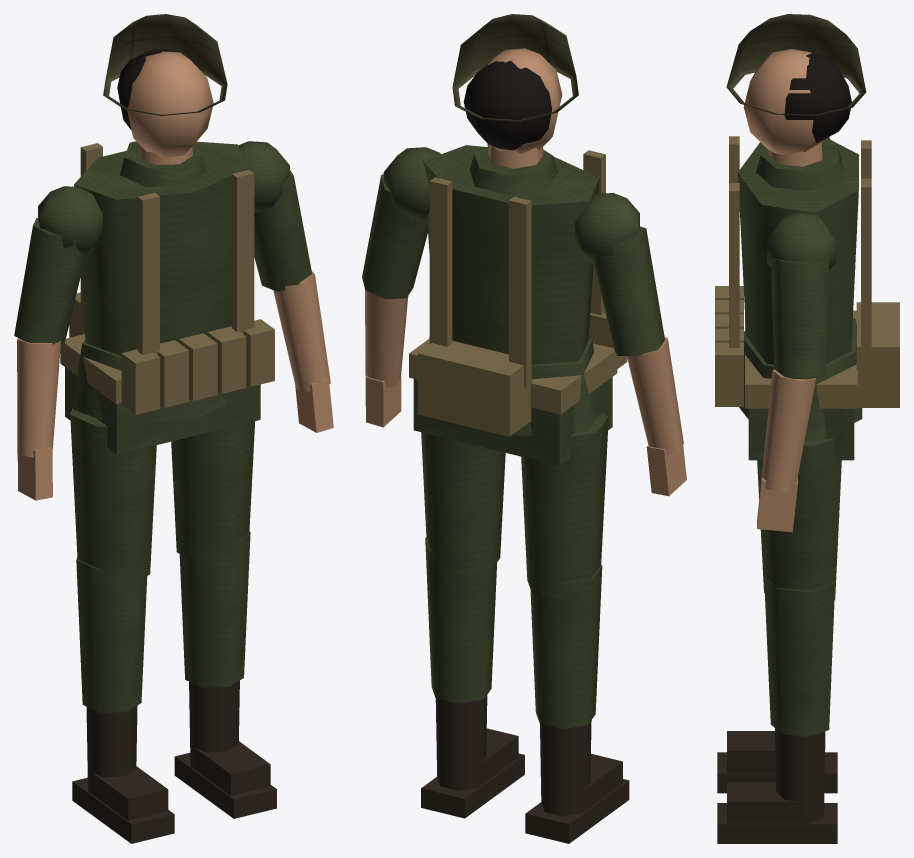
Rendered from arvn_infantry_lod2.glb.
The picture shows the model from 3 angles, left to right: view 1: azimuth 30°, elevation 25°; view 2: azimuth 150°, elevation 25°; view 3: azimuth 270°, elevation 25°; orthographic projection.
Parts seen in each view (by area): view 1: ARVN_Infantry; view 2: ARVN_Infantry; view 3: ARVN_Infantry.
Boxes of the visible parts, x1=… form: ARVN_Infantry: x1=14, y1=14, x2=333, y2=843; ARVN_Infantry: x1=362, y1=14, x2=686, y2=843; ARVN_Infantry: x1=715, y1=14, x2=899, y2=843.
Size of the model in its own units: 0.7535 by 1.8 by 0.385.
Materials: 6 (2 with a texture image).
